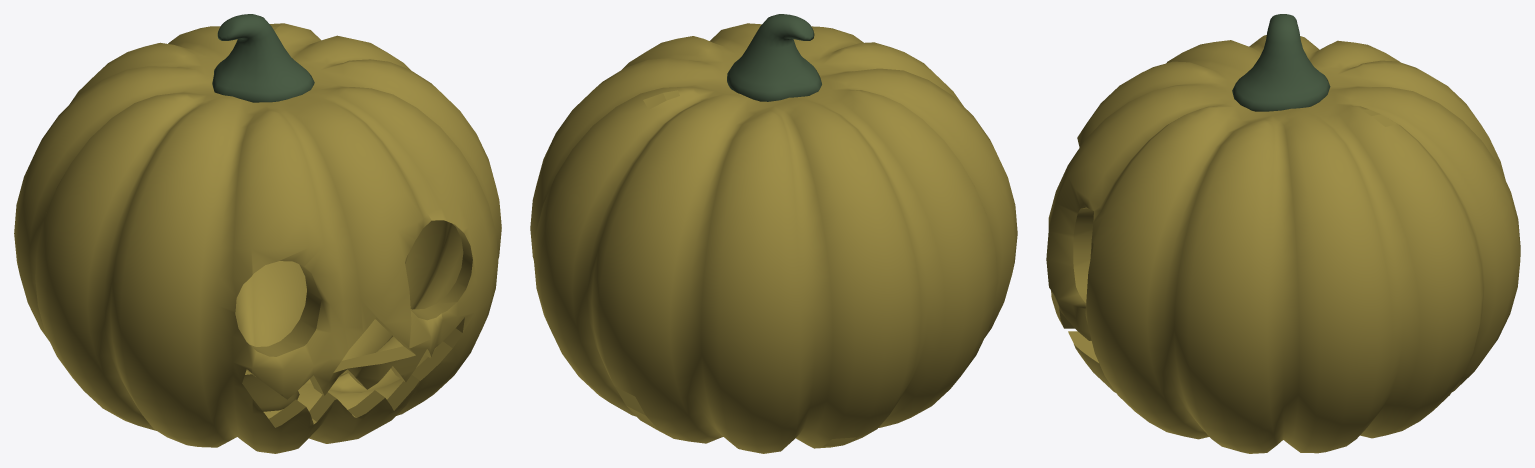
File: jack_o'lantern2.fbx
3 views of the same model, side by side, from view 1: azimuth 30°, elevation 25°; view 2: azimuth 150°, elevation 25°; view 3: azimuth 270°, elevation 25° (orthographic). The views are drawn at different scales.
Visible parts, largest first — view 1: polySurface3; view 2: polySurface3; view 3: polySurface3.
Part boxes in pixels (left/top/right/bottom): polySurface3: left=14, top=14, right=501, bottom=453; polySurface3: left=530, top=14, right=1017, bottom=453; polySurface3: left=1046, top=14, right=1520, bottom=453.
Size of the model in its own units: 1.88 by 1.67 by 1.88.
